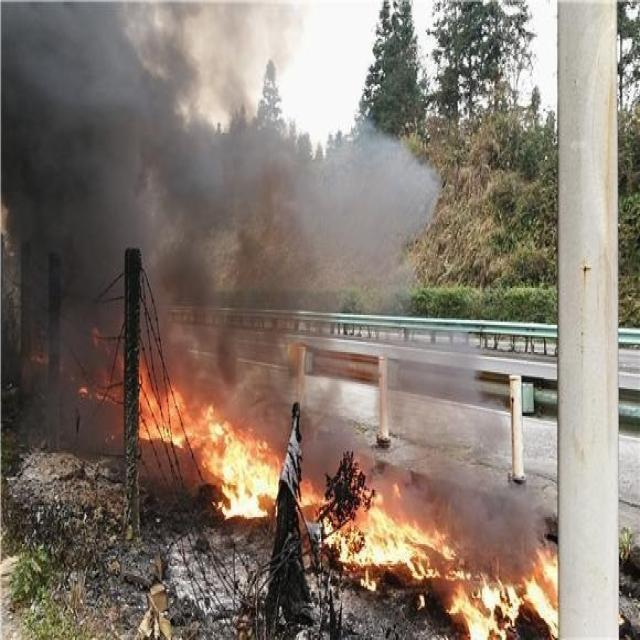Fire: (300, 478, 558, 640), (139, 357, 283, 520)
Smoke: (1, 1, 549, 586)
